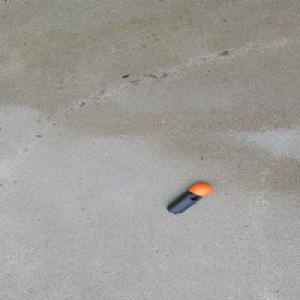PlasticPart: (165, 182, 213, 213)
